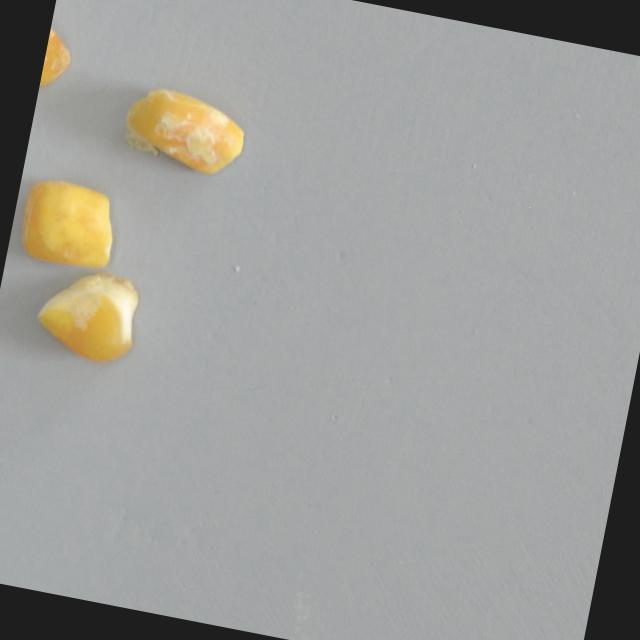estandar: (29, 261, 145, 369)
pelicula: (117, 83, 254, 181), (11, 173, 127, 276), (37, 4, 82, 104)
